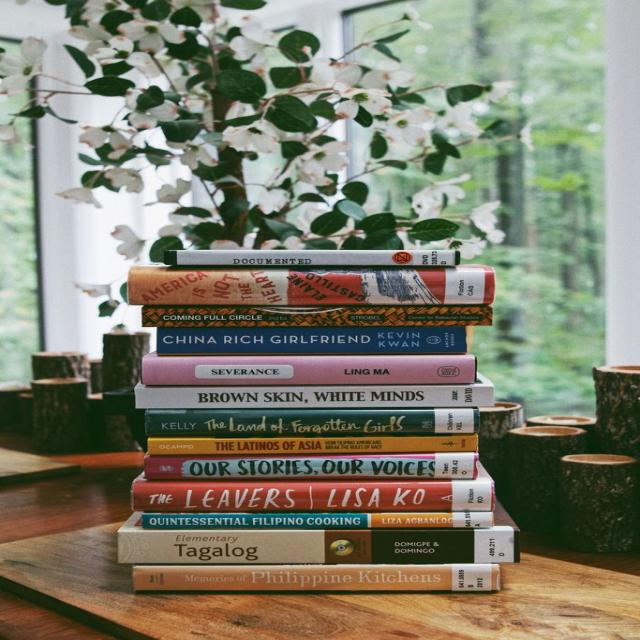book: (119, 532, 517, 563), (131, 272, 494, 304), (138, 484, 490, 514), (143, 358, 478, 384), (145, 412, 478, 436), (144, 458, 478, 478), (158, 330, 468, 351), (145, 309, 524, 325), (144, 512, 494, 528), (150, 439, 472, 454)
